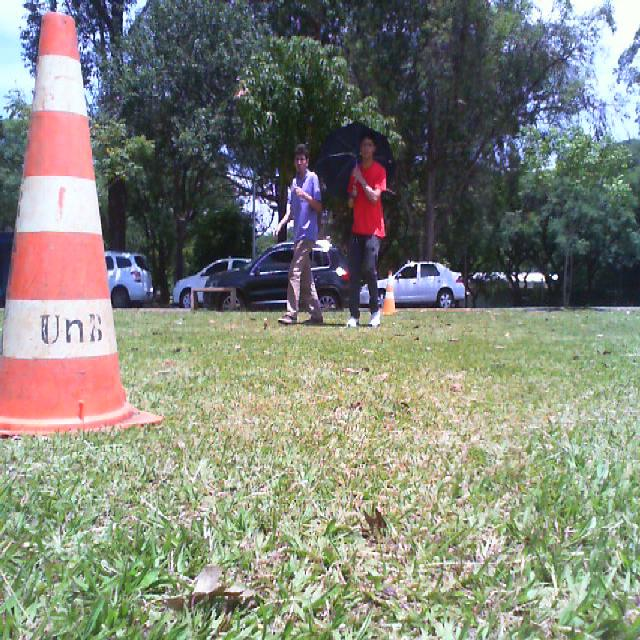cone: (0, 13, 164, 431), (382, 270, 400, 314)
